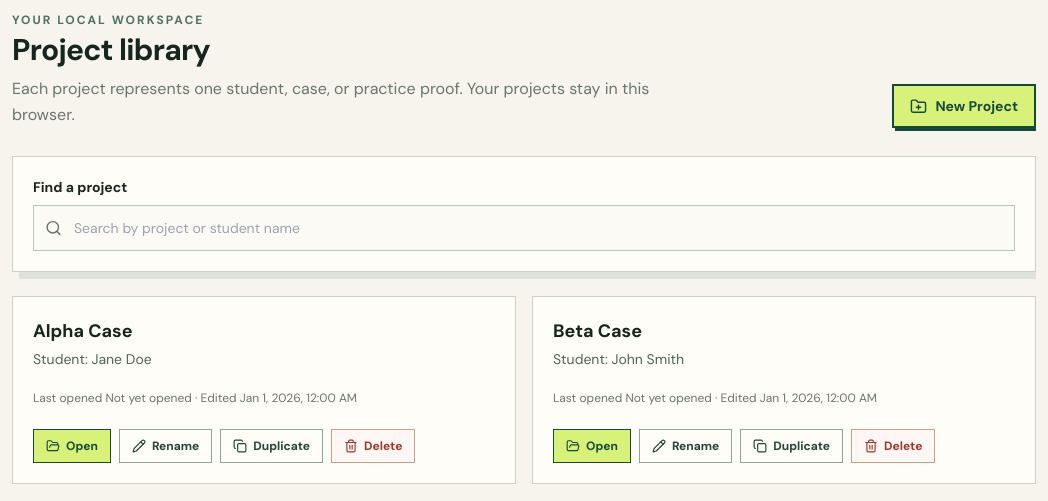
Test case: ProjectLibrary › filters the visible projects by project name or student name
Expected: the heading "Alpha Case" is shown, [33, 319, 132, 343]
Expected: the heading "Beta Case" is shown, [553, 319, 642, 343]
Type "john" into the search field labelled "Find a project" at (524, 228), box [33, 205, 1015, 251]
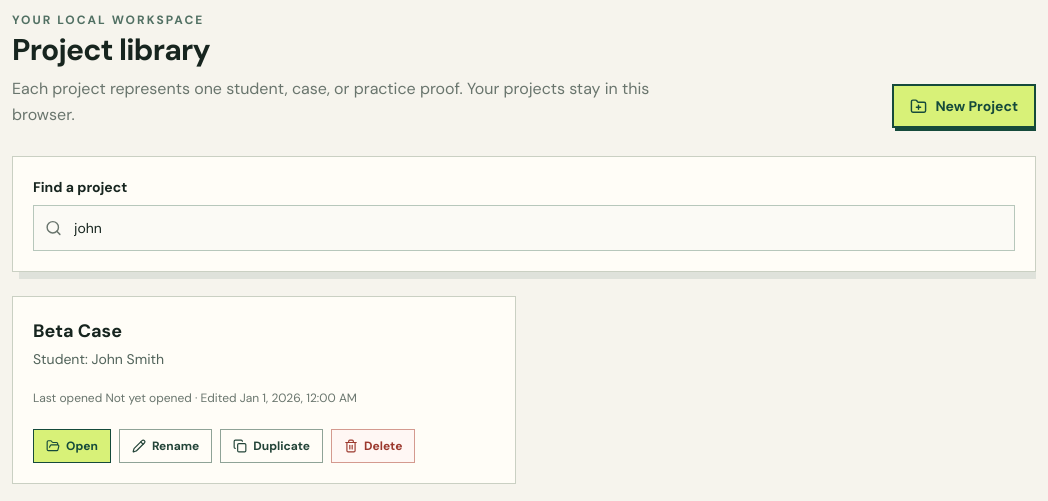
Expected: the heading "Beta Case" is shown, [33, 319, 122, 343]
Expected: the heading "Alpha Case" is gone
